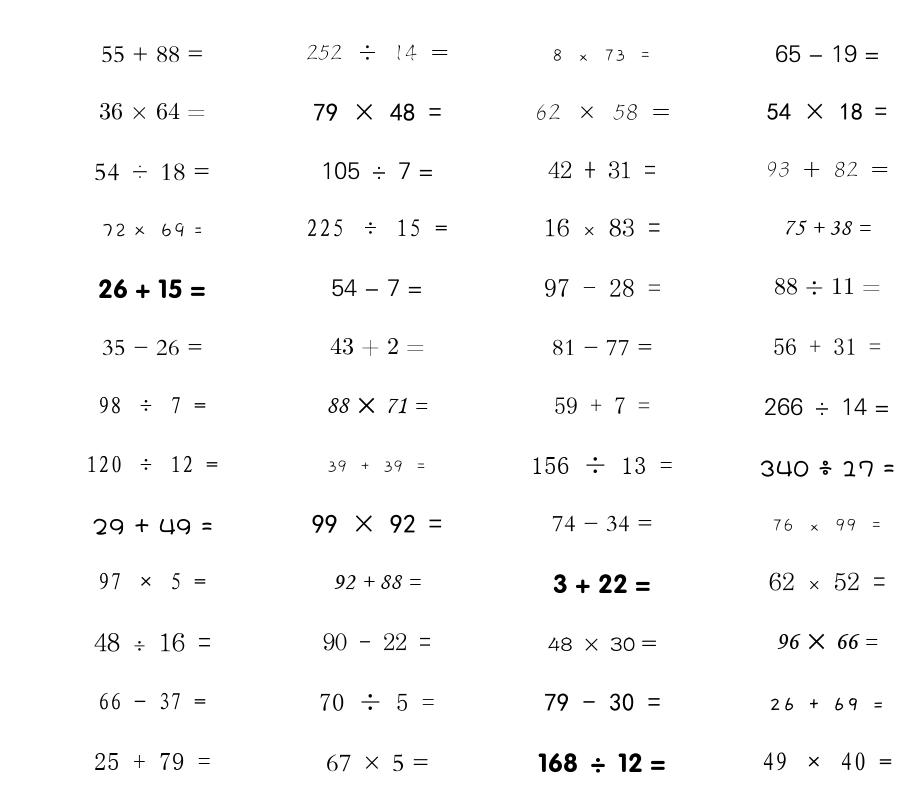MQ: (538, 753, 666, 773), (306, 219, 448, 237), (531, 456, 673, 474), (312, 514, 442, 533), (762, 752, 892, 771), (306, 44, 449, 61), (764, 397, 890, 416), (86, 455, 218, 473), (94, 632, 211, 652), (313, 103, 442, 121), (759, 460, 895, 477), (544, 218, 661, 237), (769, 572, 886, 591), (544, 693, 661, 712), (535, 104, 670, 120), (98, 279, 206, 299), (544, 279, 661, 297), (94, 163, 210, 181), (319, 693, 435, 711), (92, 518, 213, 535), (767, 103, 887, 120), (321, 162, 434, 180), (775, 44, 880, 63), (94, 753, 211, 770), (766, 161, 889, 177), (553, 574, 651, 594), (548, 161, 656, 179), (98, 396, 206, 414), (98, 572, 206, 590), (323, 633, 431, 651), (98, 692, 206, 710), (99, 102, 206, 120), (774, 277, 881, 295), (326, 754, 429, 772), (773, 338, 881, 355), (330, 337, 425, 356), (101, 46, 204, 63), (326, 397, 428, 414), (776, 633, 878, 650), (102, 339, 203, 356), (552, 339, 653, 356), (552, 515, 653, 532), (331, 279, 423, 297), (548, 637, 657, 652), (101, 222, 203, 238), (554, 397, 650, 414), (769, 697, 885, 711), (772, 518, 883, 532), (783, 220, 871, 235), (333, 575, 421, 590), (552, 49, 652, 62), (327, 460, 427, 473)
